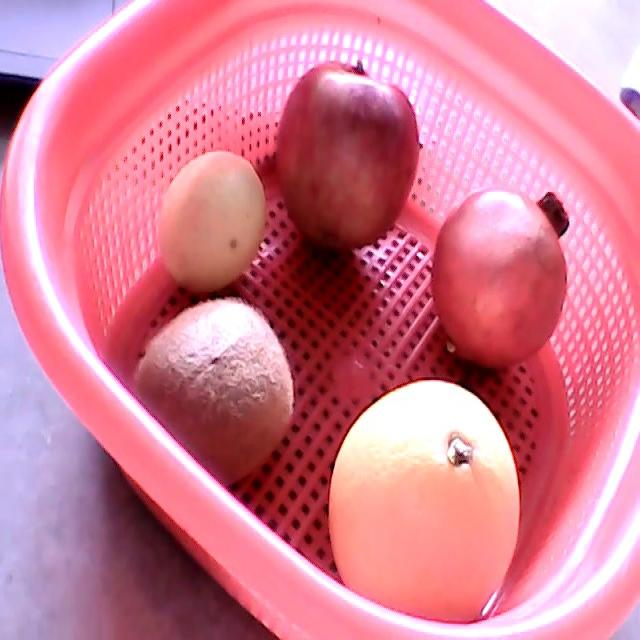apple: (277, 60, 420, 251)
kiwi: (135, 297, 293, 486)
lemon: (159, 152, 267, 293)
orange: (328, 381, 520, 625)
pomegranate: (430, 188, 571, 370)
